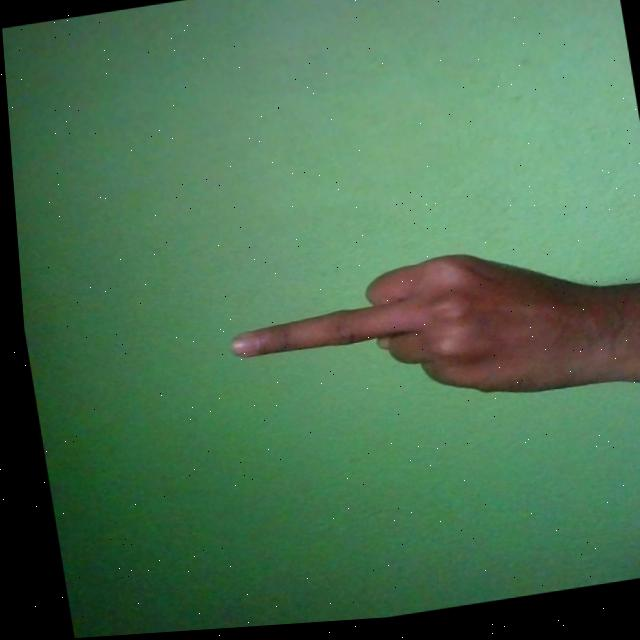Middle Finger: (211, 230, 640, 440)
